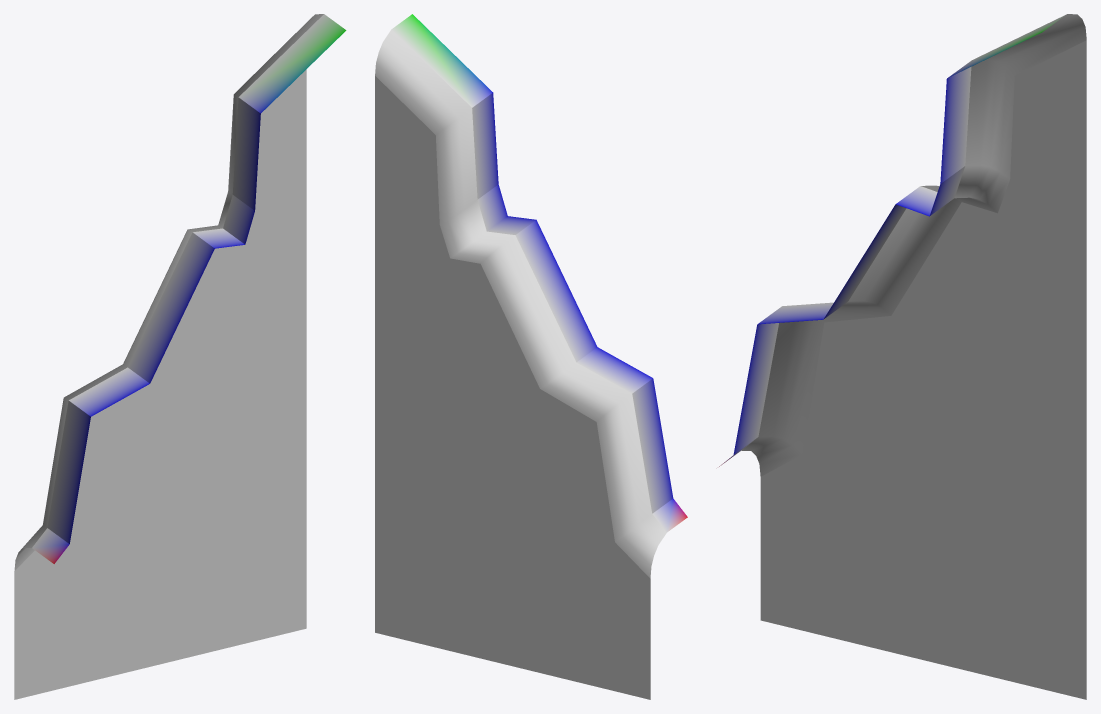
The model's file is 3DLedge.fbx.
The picture shows the model from 3 angles, left to right: view 1: azimuth 30°, elevation 25°; view 2: azimuth 150°, elevation 25°; view 3: azimuth 330°, elevation 25°; orthographic projection. The views are drawn at different scales.
Visible parts, largest first — view 1: pCube19; view 2: pCube19; view 3: pCube19.
Boxes of the visible parts, x1=… form: pCube19: x1=14, y1=14, x2=346, y2=699; pCube19: x1=375, y1=14, x2=687, y2=699; pCube19: x1=719, y1=14, x2=1086, y2=699.
Bounding box in the file's own units: 4980 × 10214 × 1173.
